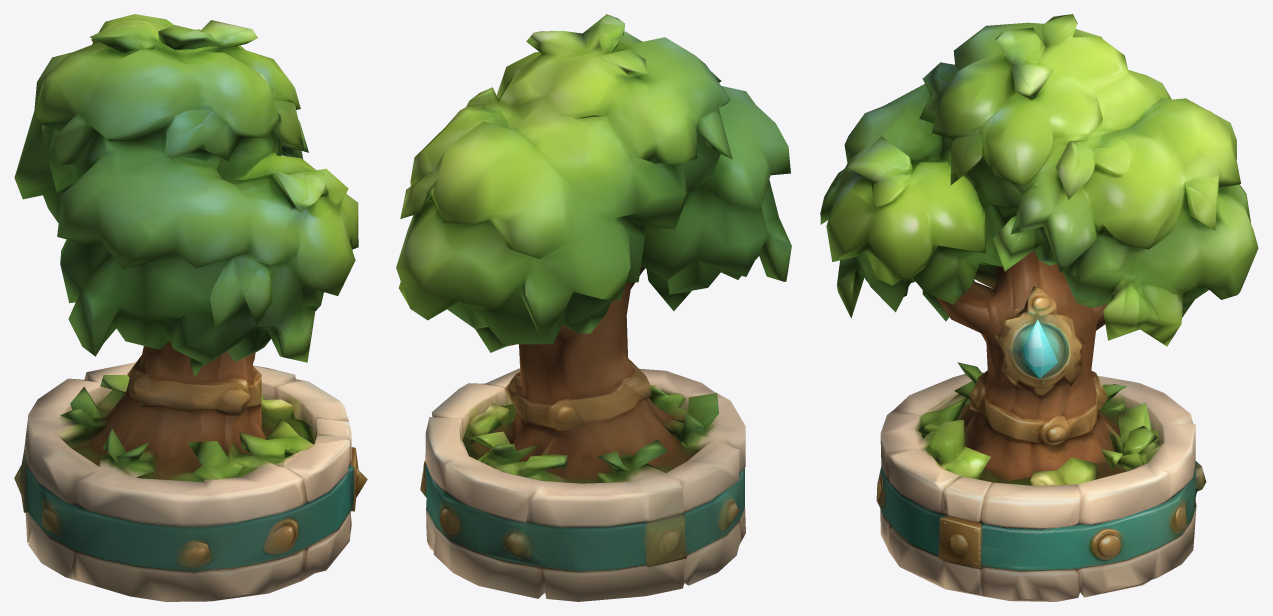
File: X_TreeA_raw.glb
The picture shows the model from 3 angles, left to right: view 1: azimuth 30°, elevation 25°; view 2: azimuth 150°, elevation 25°; view 3: azimuth 270°, elevation 25°; orthographic projection. The views are drawn at different scales.
Visible parts, largest first — view 1: tripo_node_c09cfc8d-1bff-428f-866e-8d52bf8094d7; view 2: tripo_node_c09cfc8d-1bff-428f-866e-8d52bf8094d7; view 3: tripo_node_c09cfc8d-1bff-428f-866e-8d52bf8094d7.
Boxes of the visible parts, x1,y1,x2,y2 form: tripo_node_c09cfc8d-1bff-428f-866e-8d52bf8094d7: (14, 14, 367, 601); tripo_node_c09cfc8d-1bff-428f-866e-8d52bf8094d7: (396, 14, 791, 601); tripo_node_c09cfc8d-1bff-428f-866e-8d52bf8094d7: (820, 14, 1258, 601).
Bounding box in the file's own units: 0.6081 × 1 × 0.7998.
Materials: 1 (1 with a texture image).
